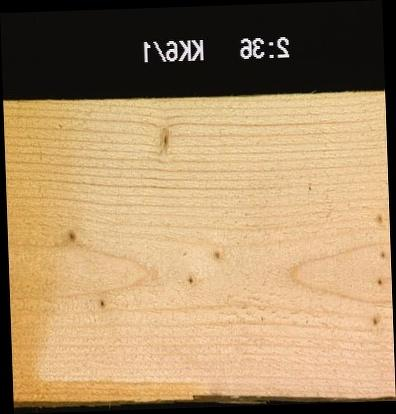small_knot: (55, 219, 86, 244), (153, 123, 175, 154), (368, 205, 388, 230), (366, 270, 391, 288), (91, 293, 112, 311), (363, 310, 381, 327), (180, 268, 196, 287), (206, 247, 224, 262), (375, 248, 390, 262)
wave: (15, 370, 272, 404)
